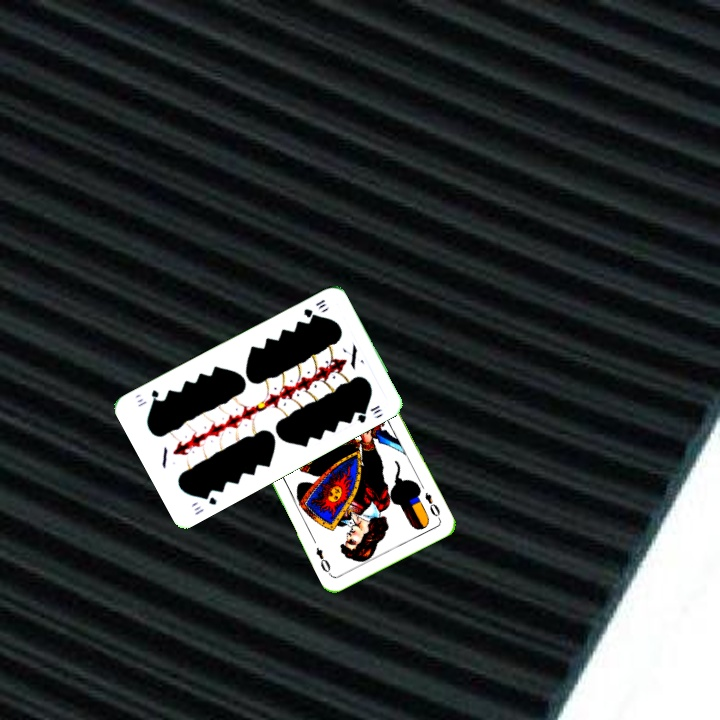EO: (421, 488, 443, 522)
G10: (189, 489, 219, 518), (300, 295, 330, 320)
